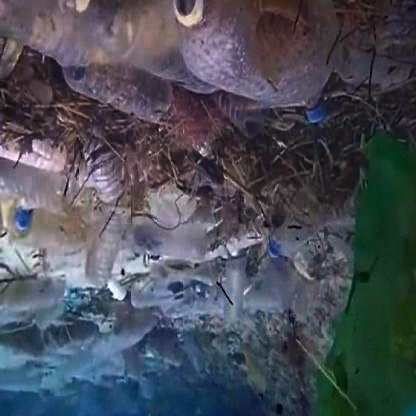pbottle: (180, 5, 324, 117), (250, 209, 378, 288), (61, 41, 174, 124), (9, 188, 93, 243), (91, 186, 127, 288)
